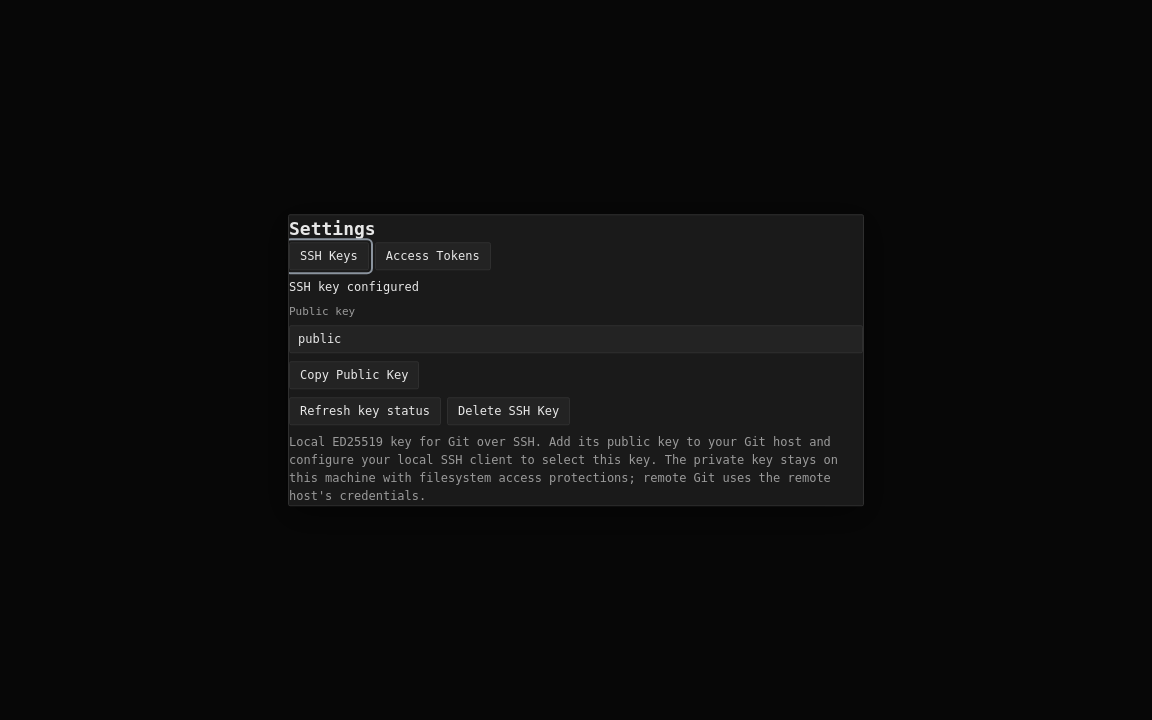
Scenario: canonical Authentication content › retains known credential status and reports key deletion failures
The image size is (1152, 720).
Click the button "Delete SSH Key" at (509,411), box [447,397,570,425]
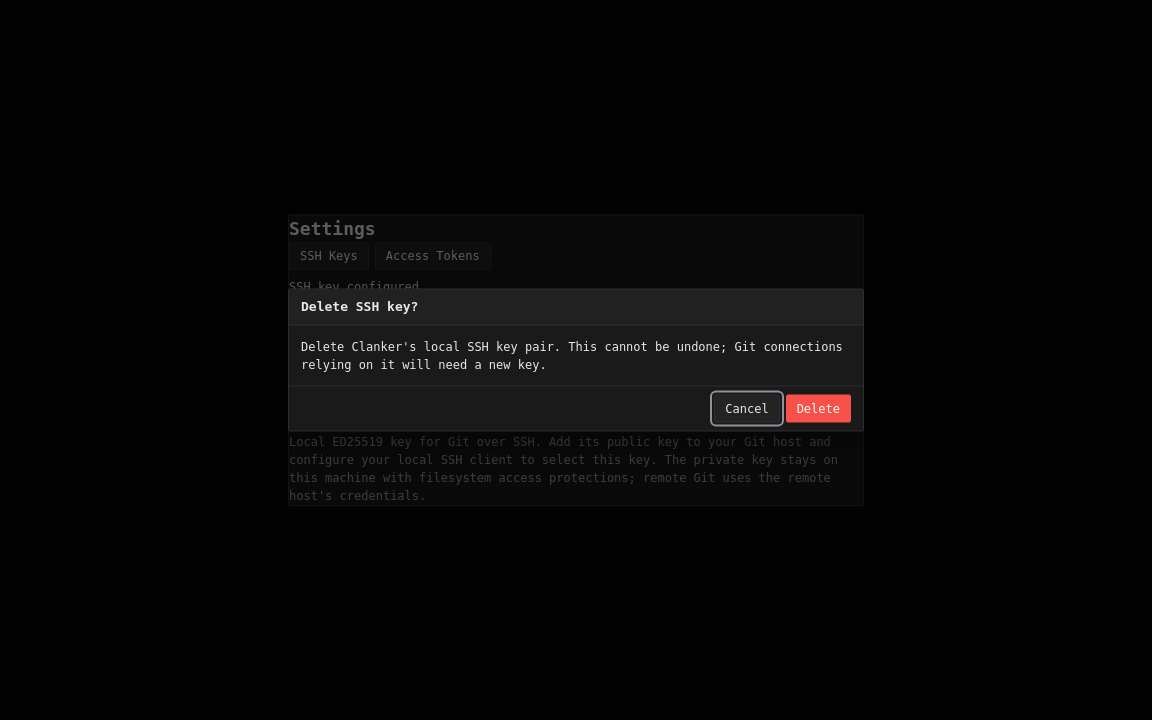
Click the button "Delete" at (818,408), box [786,394,851,422]
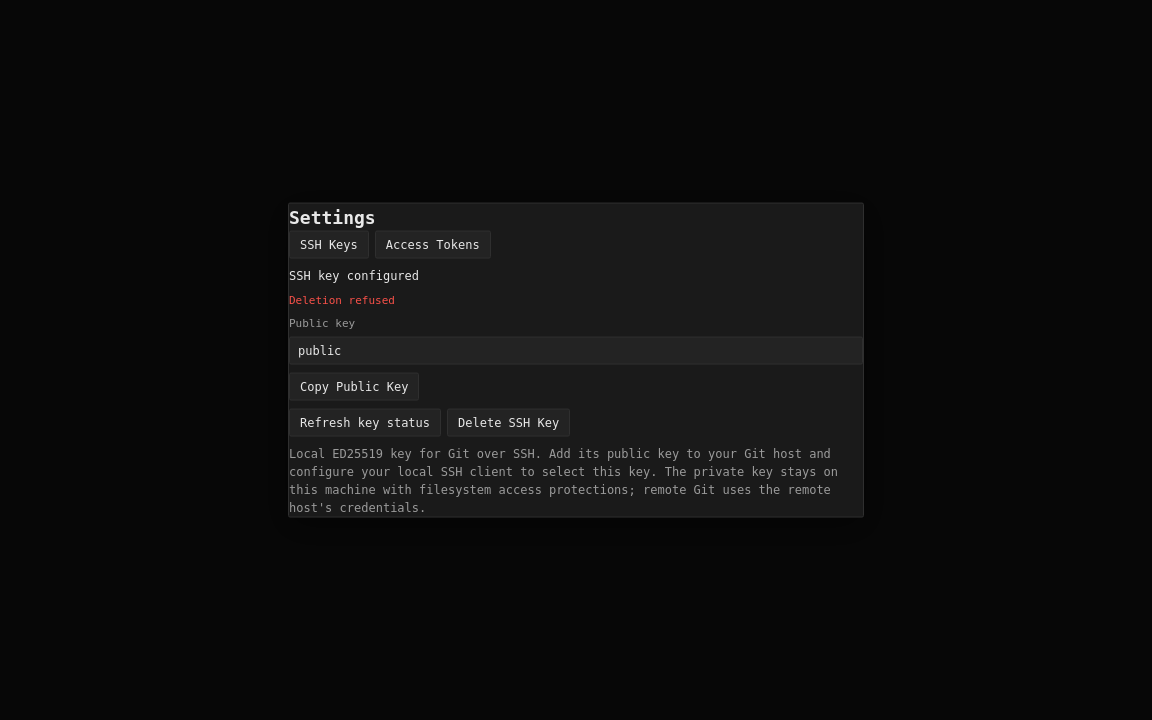
Expected: the text "SSH key configured" is shown, [289,269,419,283]
Now the message "Deletion refused" is shown, box [289,294,395,307]
